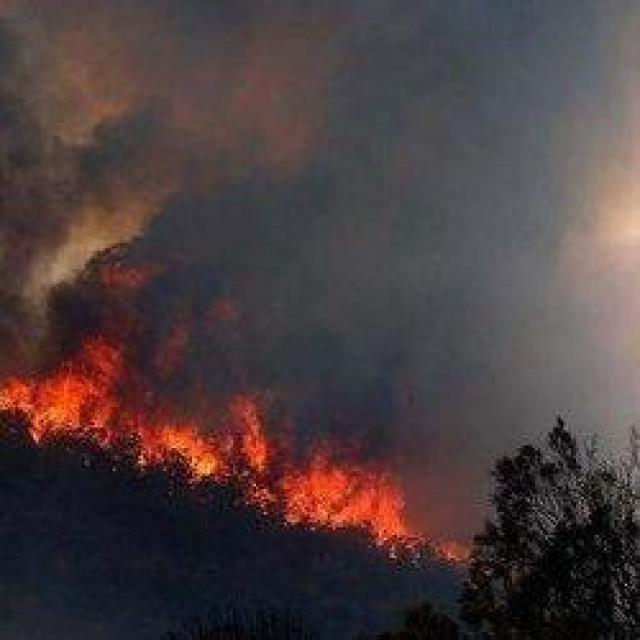Fire: (8, 300, 474, 566)
Smoke: (98, 4, 640, 347)
